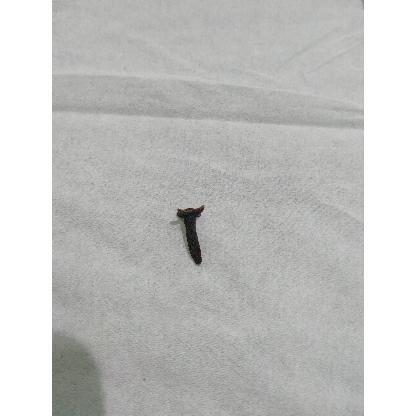buruk: (177, 205, 204, 264)
